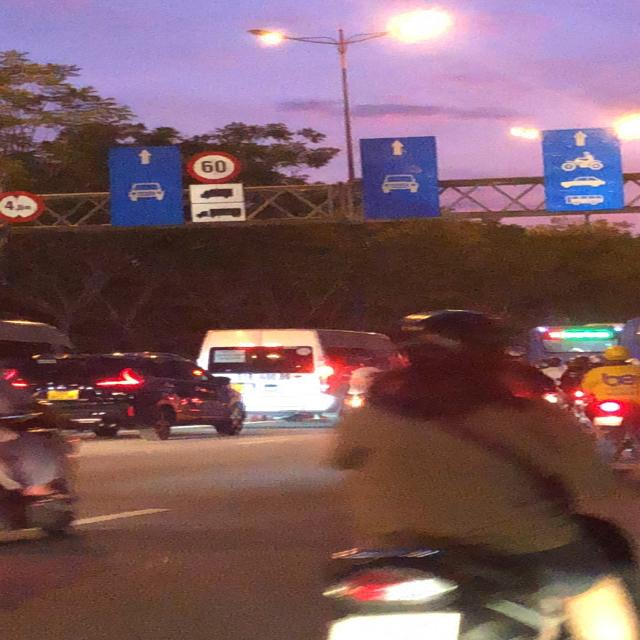Bien bao han che chieu cao: (0, 190, 43, 226)
Bien bao toc do toi da cho phep: (180, 150, 242, 183)
